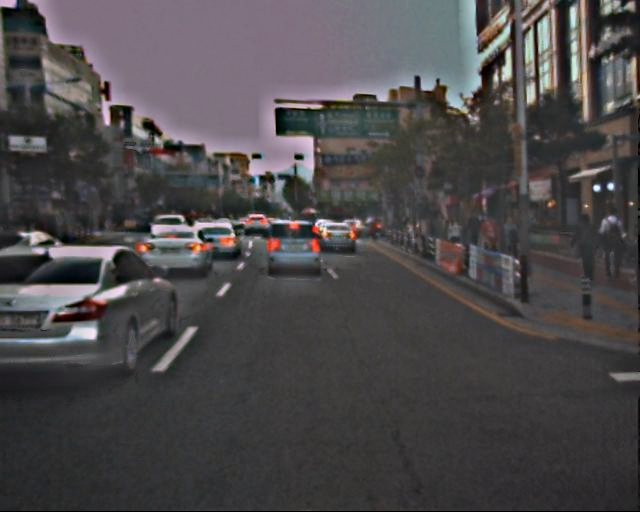person: (569, 213, 599, 285), (596, 208, 625, 278), (494, 215, 522, 283), (621, 223, 639, 316), (478, 217, 501, 273), (462, 209, 484, 263), (445, 216, 463, 261)
